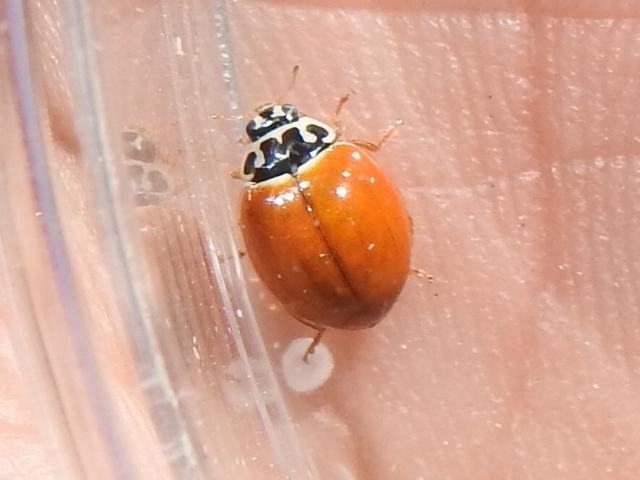ladybug: (215, 60, 442, 369)
